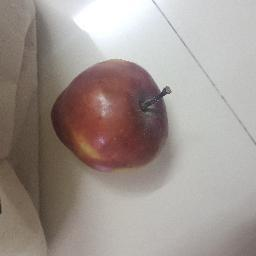Good_apple: (52, 57, 171, 179)
